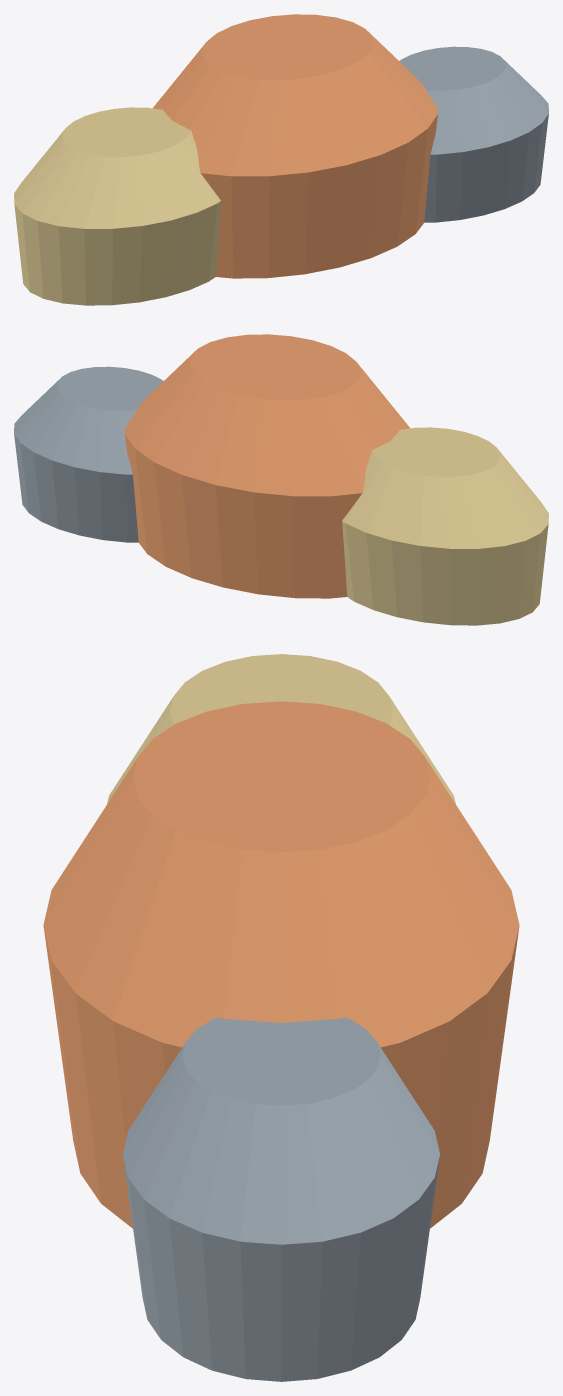
The model's file is source.glb.
The picture shows the model from 3 angles, top to bottom: view 1: azimuth 30°, elevation 25°; view 2: azimuth 150°, elevation 25°; view 3: azimuth 270°, elevation 25°; orthographic projection. The views are drawn at different scales.
Visible parts, largest first — view 1: worldgen; view 2: worldgen; view 3: worldgen.
Part boxes in pixels (x1,y1,x2,y2): worldgen: (14,14,548,305); worldgen: (14,334,548,625); worldgen: (43,654,519,1381).
Bounding box in the file's own units: 96.72 × 32.4 × 38.4.
